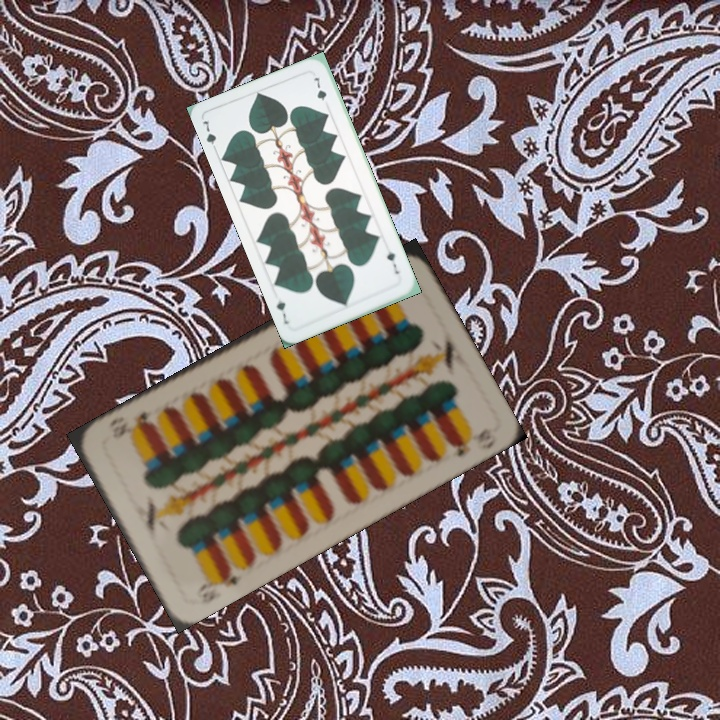E10: (192, 563, 244, 606)
G7: (198, 117, 220, 155), (382, 247, 402, 277)
